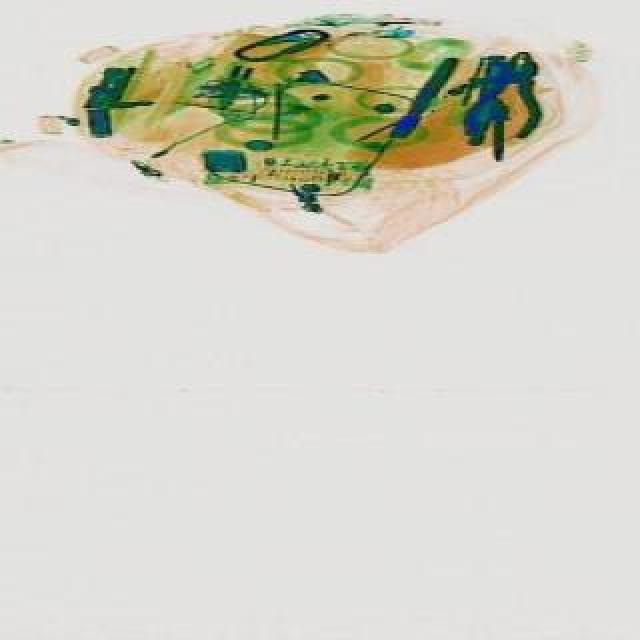wrench: (454, 44, 550, 148)
